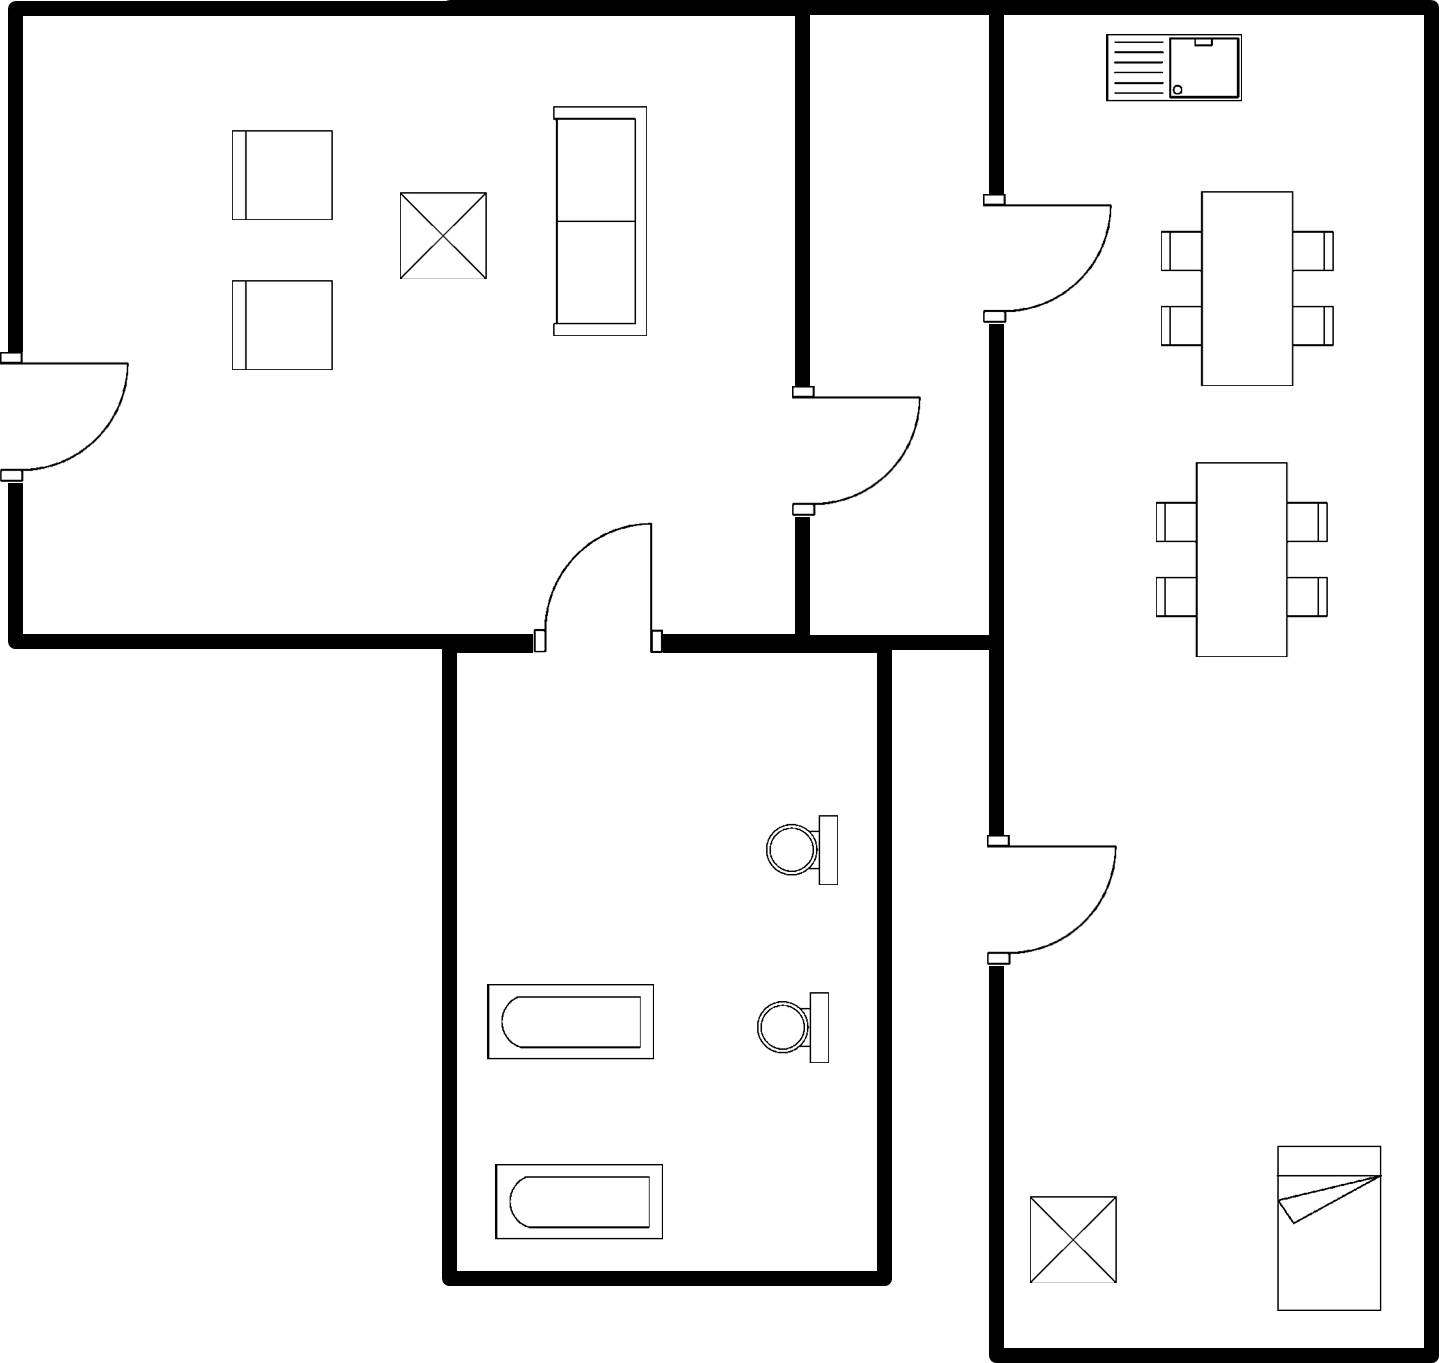bed: (1262, 1134, 1397, 1322)
coffee_table: (1016, 1184, 1128, 1296), (386, 184, 497, 292)
dining_table: (1148, 173, 1346, 402), (1144, 448, 1337, 672)
large_sink: (744, 978, 838, 1076), (761, 809, 849, 901)
large_sofa: (541, 92, 658, 352)
sink: (1092, 22, 1257, 120)
small_sofa: (217, 117, 341, 236), (218, 269, 338, 385)
tub: (484, 1152, 678, 1253), (474, 974, 664, 1073)
